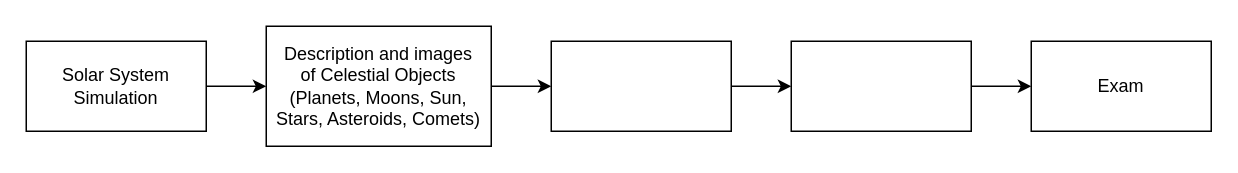
This 1238x173 diagram has some shape labels left out. Each missing label, with the box of its shape:
Drag & D rop Quiz on Celestial Objects: (550, 40, 731, 131)
Model our Solar System via Drag & D rop: (790, 40, 971, 131)
